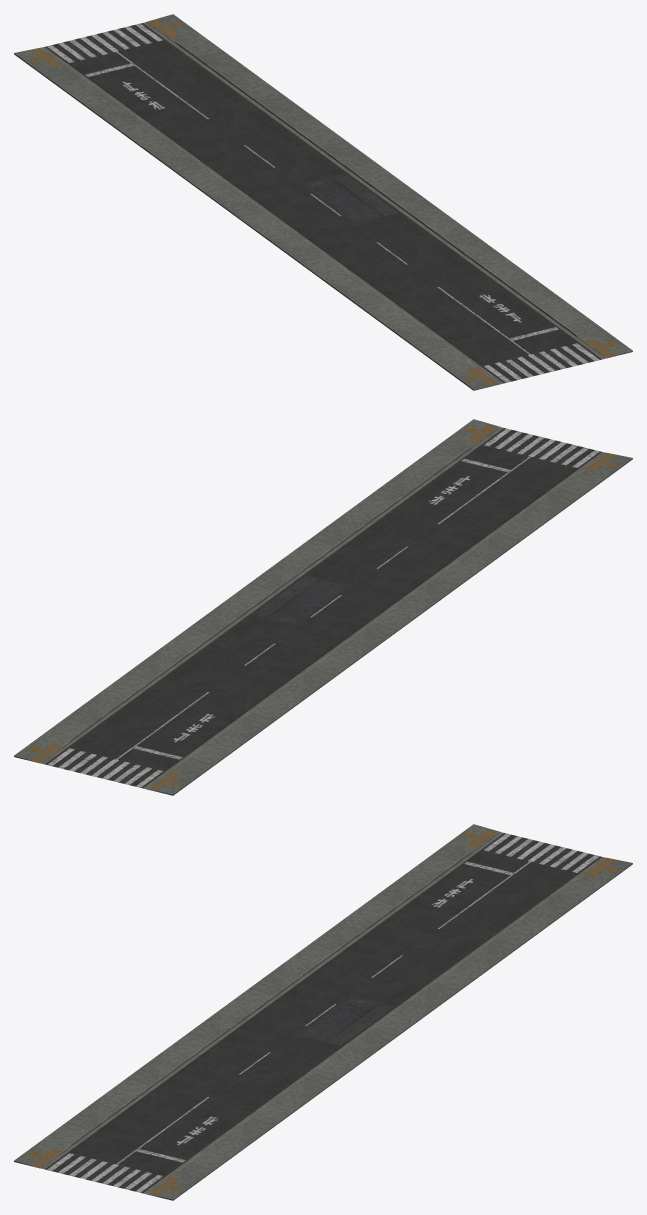
File: jctlowRoad12mA_b.fbx
3 views of the same model, one above another, from view 1: azimuth 30°, elevation 25°; view 2: azimuth 150°, elevation 25°; view 3: azimuth 330°, elevation 25° (orthographic).
Parts seen in each view (by area): view 1: jctlowRoad12mA_b; view 2: jctlowRoad12mA_b; view 3: jctlowRoad12mA_b.
Part boxes in pixels (x1,y1,x2,y2): jctlowRoad12mA_b: (14, 14, 632, 390); jctlowRoad12mA_b: (14, 419, 632, 795); jctlowRoad12mA_b: (14, 824, 632, 1200).
Size of the model in its own units: 1200 by 10 by 6000.
3 materials, 3 textured.
